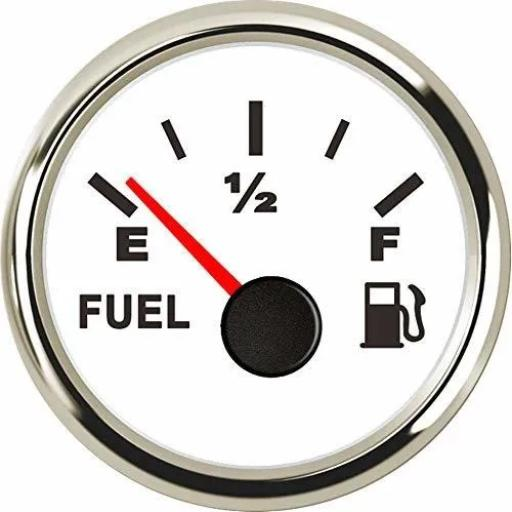empty: (108, 220, 154, 264)
fuel_icon: (360, 277, 433, 354)
full: (364, 221, 403, 265)
guage_area: (2, 2, 512, 509)
needle_center: (210, 267, 331, 386)
needle_tip: (120, 175, 143, 193)
